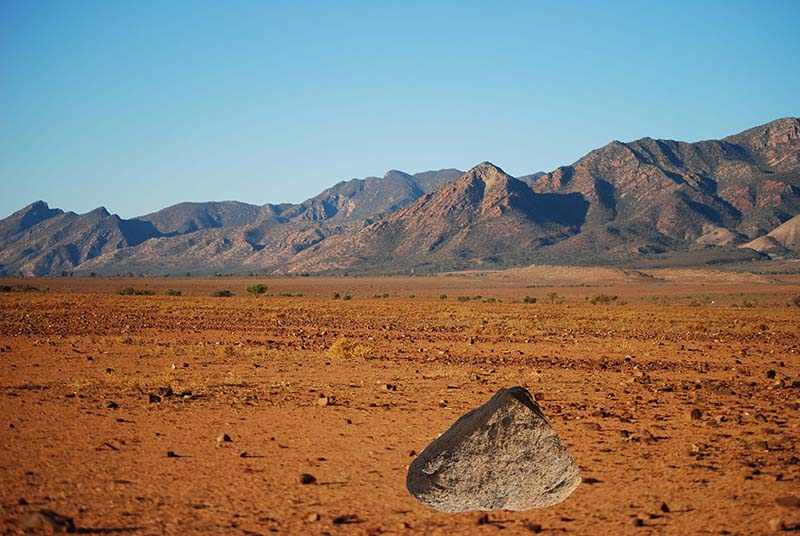Rocks: (400, 378, 584, 517)
